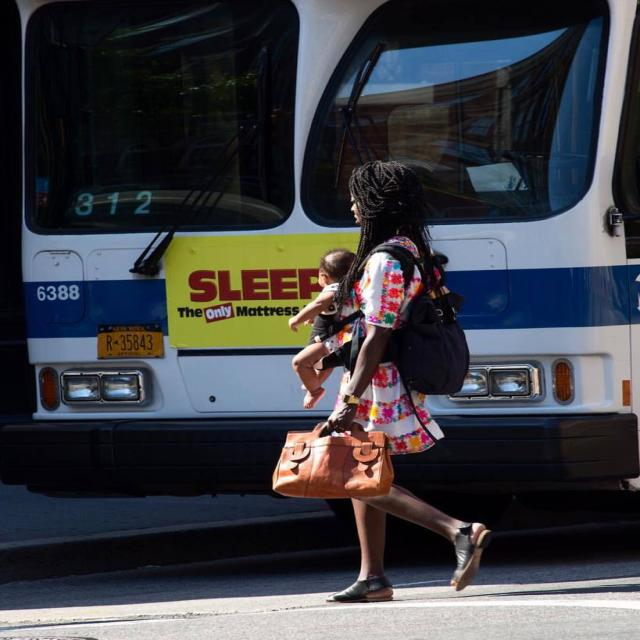Buses: (4, 0, 640, 552)
Pedestrians: (322, 162, 494, 606)
